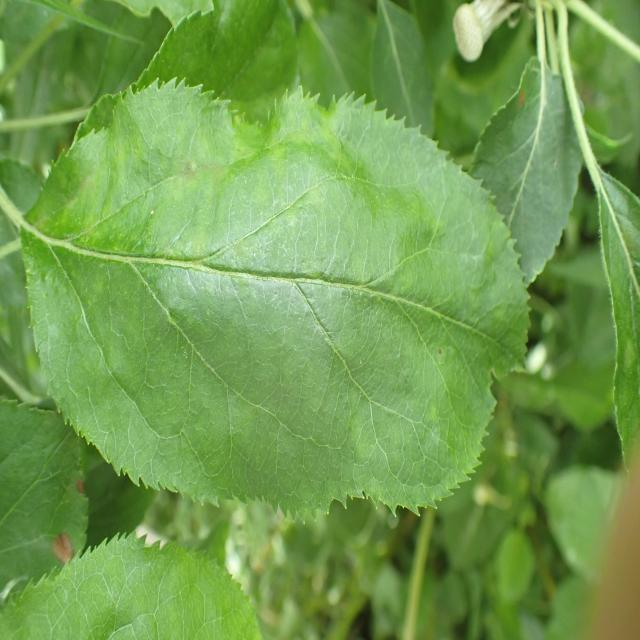scab: (37, 112, 519, 461)
